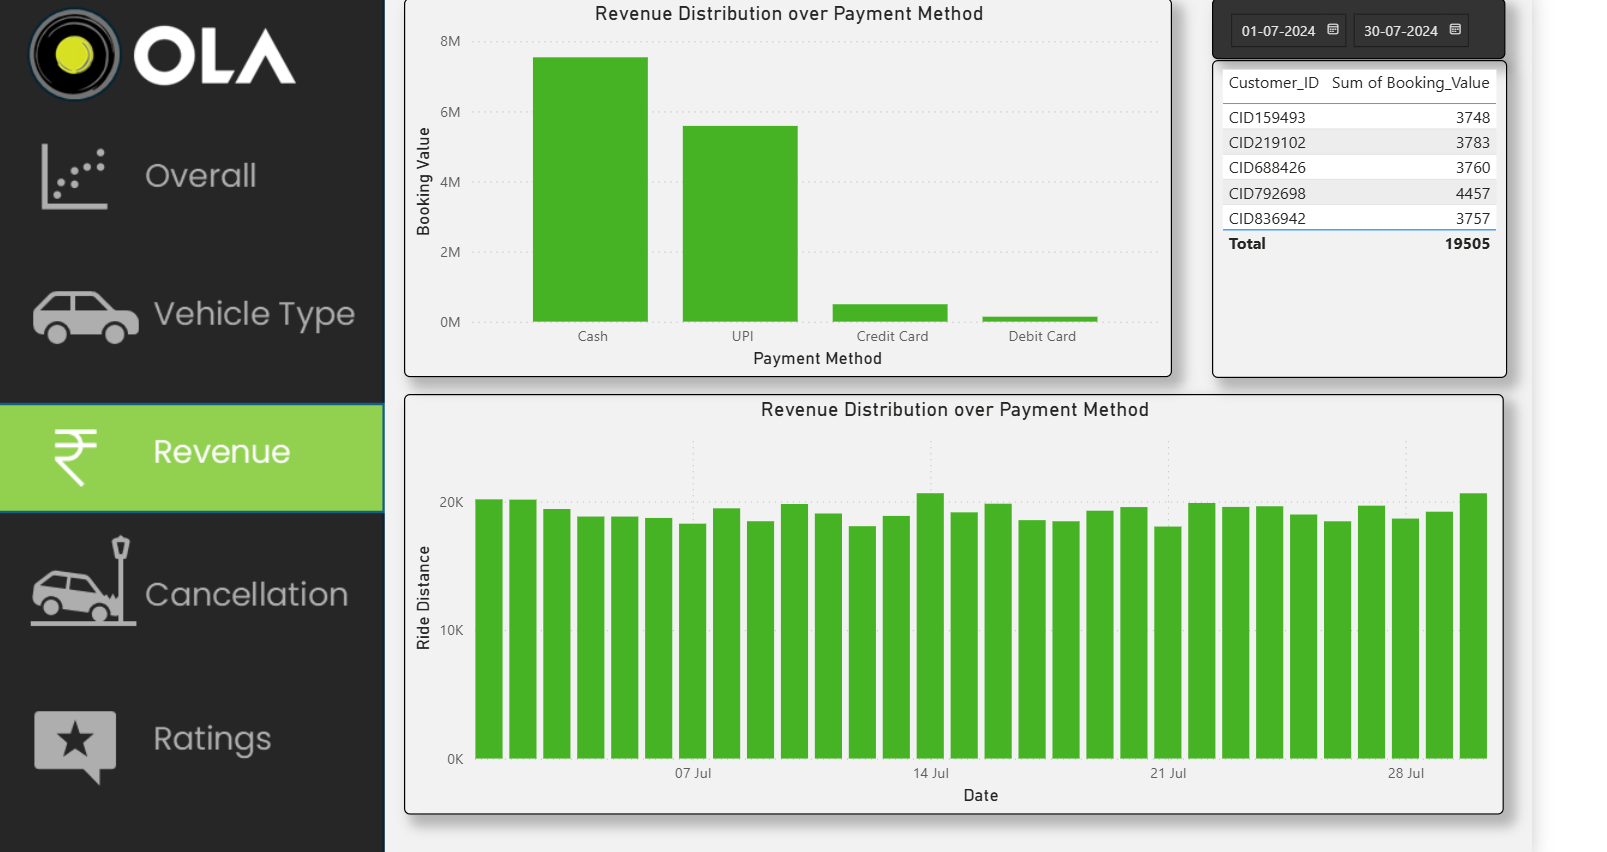

The dashboard page shown, as its layout file describes it:
{"tool":"powerbi","page":{"name":"Revenue","canvas":[1280,720],"ordinal":2},"visuals":[{"type":"actionButton","box":[0,117,325.1,89.4],"z":0},{"type":"actionButton","box":[0,225.9,325.1,87.8],"z":1},{"type":"actionButton","box":[0,442.1,325.1,110.5],"z":2},{"type":"actionButton","box":[0,580.2,325.1,87.8],"z":3},{"type":"columnChart","title":"Revenue Distribution over Payment Method","fields":{"Category":["Bookings-40000-Rows - July (2).Payment_Method"],"Y":["Sum(Bookings-40000-Rows - July (2).Booking_Value)"]},"box":[340.8,3.8,640,316.2],"z":4},{"type":"columnChart","title":"Revenue Distribution over Payment Method","fields":{"Category":["Bookings-40000-Rows - July (2).Date"],"Y":["Sum(Bookings-40000-Rows - July (2).Ride_Distance)"]},"box":[340.8,333.3,916.4,350.3],"z":5},{"type":"slicer","title":"DATE","fields":{"Values":["Bookings-40000-Rows - July (2).Date"]},"box":[1013,3.8,244.3,51.1],"z":6},{"type":"tableEx","title":"TOP 5 CUSTOMERS","fields":{"Values":["Bookings-40000-Rows - July (2).Customer_ID","Sum(Bookings-40000-Rows - July (2).Booking_Value)"]},"box":[1013,54.9,246.2,265.1],"z":7}]}

Visuals, with their boxes on the page's 1280x720 design canvas (x1, y1, x2, y2). These are canvas units, not pixel positions in the 1607x852 screenshot, which may show the page scaled, cropped or inside an application window:
actionButton: [0,117,325,206]
actionButton: [0,226,325,314]
actionButton: [0,442,325,553]
actionButton: [0,580,325,668]
"Revenue Distribution over Payment Method" columnChart: [341,4,981,320]
"Revenue Distribution over Payment Method" columnChart: [341,333,1257,684]
"DATE" slicer: [1013,4,1257,55]
"TOP 5 CUSTOMERS" tableEx: [1013,55,1259,320]
